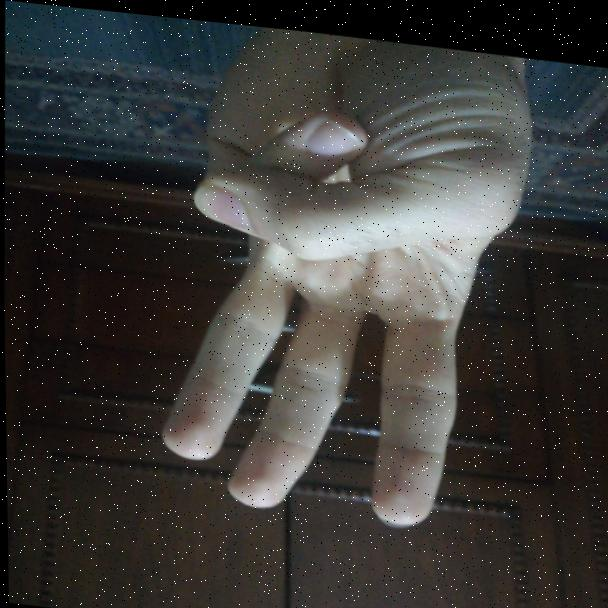five: (136, 22, 558, 549)
